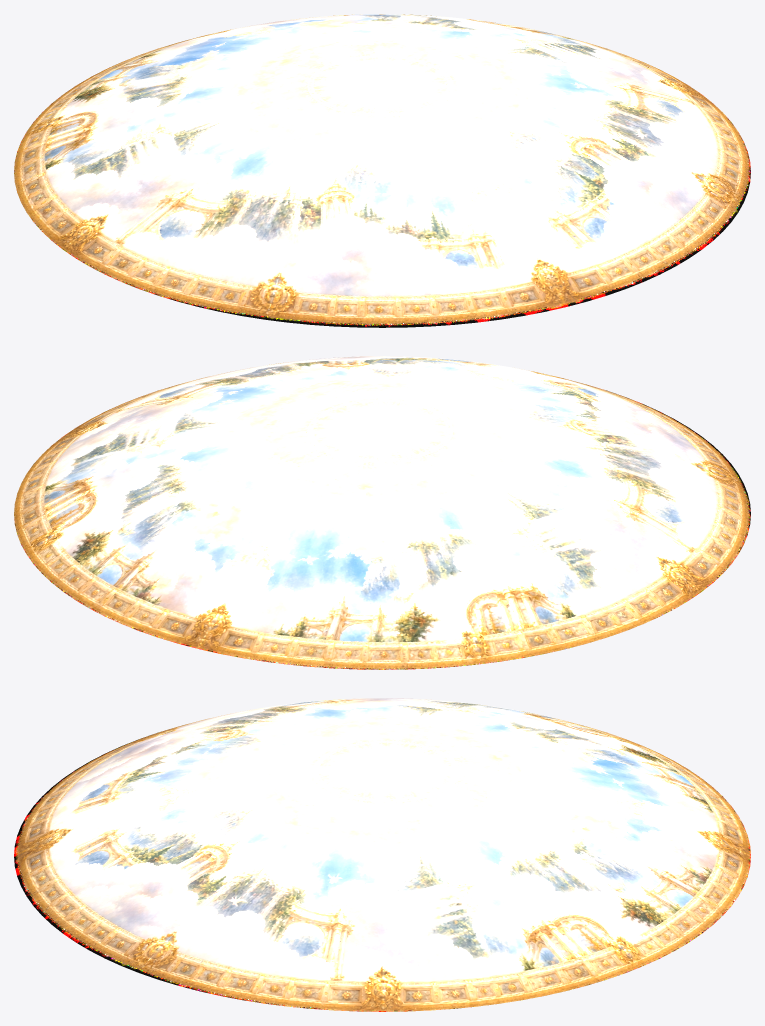
The model's file is vault_fresco.glb.
3 views of the same model, one above another, from view 1: azimuth 30°, elevation 25°; view 2: azimuth 150°, elevation 25°; view 3: azimuth 270°, elevation 25° (orthographic).
Parts seen in each view (by area): view 1: Vault_Fresco; view 2: Vault_Fresco; view 3: Vault_Fresco.
Boxes of the visible parts, left/top/right/bottom form: Vault_Fresco: left=14, top=14, right=750, bottom=327; Vault_Fresco: left=14, top=356, right=750, bottom=669; Vault_Fresco: left=14, top=698, right=750, bottom=1011.
Size of the model in its own units: 228 by 30 by 228.
Materials: 1 (1 with a texture image).
